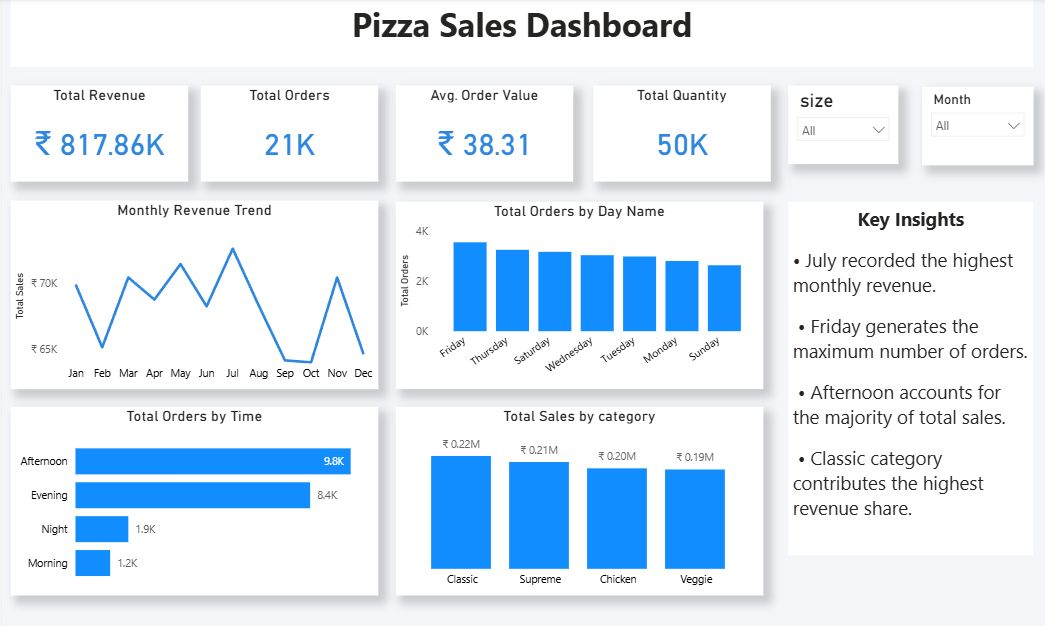

The page's visual inventory and layout, read from the dashboard file:
{"tool":"powerbi","page":{"name":"Page 3","canvas":[1280,720],"ordinal":2},"visuals":[{"type":"textbox","box":[10,0,1166,78.4],"z":0},{"type":"card","title":"Total Revenue","fields":{"Values":["orders_details.Total Sales"]},"box":[10,99.8,202.4,109.8],"z":1000},{"type":"card","title":"Total Orders","fields":{"Values":["orders.Total Orders"]},"box":[226.6,99.8,202.4,109.8],"z":2000},{"type":"card","title":"Avg. Order Value","fields":{"Values":["orders.AOV"]},"box":[449,99.8,202.4,109.8],"z":3000},{"type":"card","title":"Total Quantity","fields":{"Values":["Sum(orders_details.quantity)"]},"box":[674.2,99.8,202.4,109.8],"z":4000},{"type":"lineChart","title":"Monthly Revenue Trend","fields":{"Y":["orders_details.Total Sales"],"Category":["Date.Month Name"]},"box":[10,230.9,419.1,215.2],"z":5000},{"type":"clusteredColumnChart","fields":{"Category":["orders.Day Name"],"Y":["orders.Total Orders"]},"box":[449,232.3,419.1,213.8],"z":5001},{"type":"barChart","title":"Total Orders by Time ","fields":{"Category":["orders.Time Category"],"Y":["orders.Total Orders"]},"box":[10,465.5,419,215],"z":5002},{"type":"clusteredColumnChart","fields":{"Y":["orders_details.Total Sales"],"Category":["pizza_types.category"]},"box":[449,466,419,215],"z":5003},{"type":"slicer","fields":{"Values":["pizzas.size"]},"box":[896.6,99.8,125.4,89.8],"z":5004},{"type":"slicer","fields":{"Values":["Date.Month Name"]},"box":[1049.1,101.2,126.9,89.8],"z":5005},{"type":"textbox","box":[896.6,232.3,279.4,403.4],"z":5006}]}

Visuals, with their boxes on the page's 1280x720 design canvas (x1, y1, x2, y2). These are canvas units, not pixel positions in the 1045x626 screenshot, which may show the page scaled, cropped or inside an application window:
textbox: Rect(10, 0, 1176, 78)
"Total Revenue" card: Rect(10, 100, 212, 210)
"Total Orders" card: Rect(227, 100, 429, 210)
"Avg. Order Value" card: Rect(449, 100, 651, 210)
"Total Quantity" card: Rect(674, 100, 877, 210)
"Monthly Revenue Trend" lineChart: Rect(10, 231, 429, 446)
clusteredColumnChart - orders.Day Name x orders.Total Orders: Rect(449, 232, 868, 446)
"Total Orders by Time " barChart: Rect(10, 466, 429, 680)
clusteredColumnChart - orders_details.Total Sales x pizza_types.category: Rect(449, 466, 868, 681)
slicer - pizzas.size: Rect(897, 100, 1022, 190)
slicer - Date.Month Name: Rect(1049, 101, 1176, 191)
textbox: Rect(897, 232, 1176, 636)
